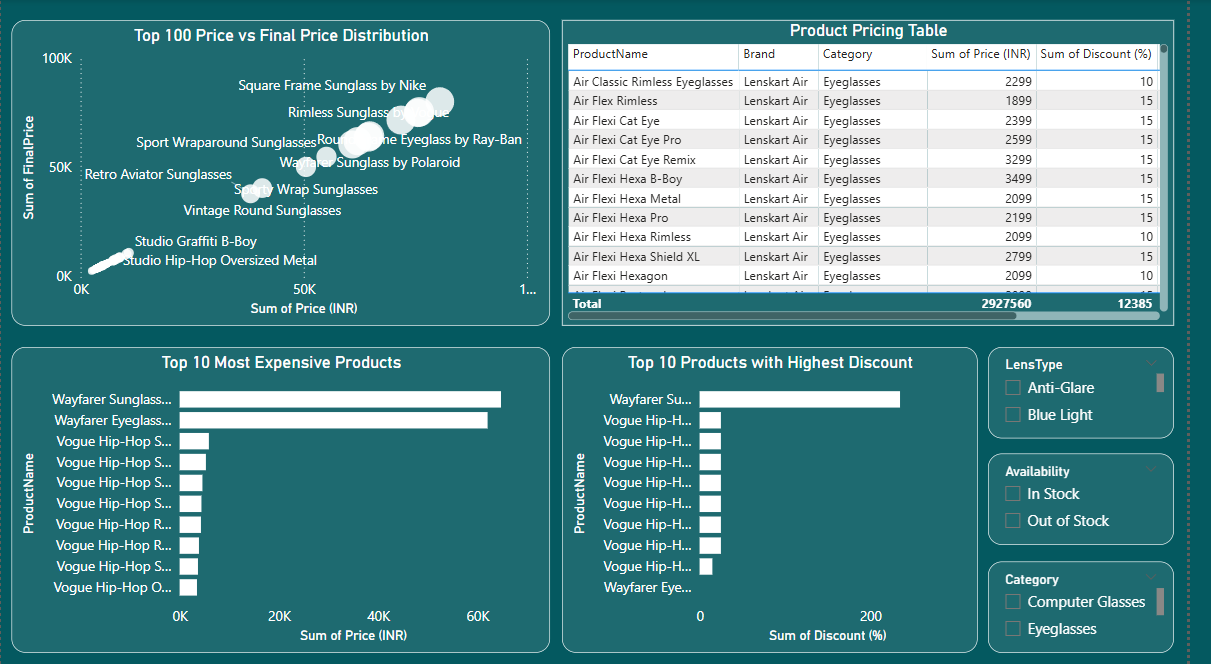

The dashboard page shown, as its layout file describes it:
{"tool":"powerbi","page":{"name":"Price & Discount Analysis","canvas":[1280,720],"ordinal":1},"visuals":[{"type":"scatterChart","title":"Top 100 Price vs Final Price Distribution","fields":{"X":["Sum(Dataset1.Price (INR))"],"Size":["Sum(Dataset1.Rating)"],"Y":["Sum(Dataset1.FinalPrice)"],"Category":["Dataset1.ProductName"]},"box":[11.3,22.7,581.3,330.3],"z":0},{"type":"clusteredBarChart","title":"Top 10 Most Expensive Products","fields":{"Category":["Dataset1.ProductName"],"Y":["Sum(Dataset1.Price (INR))"]},"box":[11.3,375.7,581.3,330.3],"z":1000},{"type":"clusteredBarChart","title":"Top 10 Products with Highest Discount","fields":{"Y":["Sum(Dataset1.Discount (%))"],"Category":["Dataset1.ProductName"]},"box":[605.6,375.7,448.5,330.3],"z":2000},{"type":"tableEx","title":"Product Pricing Table","fields":{"Values":["Dataset1.ProductName","Dataset1.Brand","Dataset1.Category","Sum(Dataset1.Price (INR))","Sum(Dataset1.Discount (%))","Sum(Dataset1.FinalPrice)","Sum(Dataset1.Rating)"]},"box":[605.6,22.7,660.6,330.3],"z":3000},{"type":"slicer","fields":{"Values":["Dataset1.LensType"]},"box":[1065.5,375.7,200.8,98.8],"z":4000},{"type":"slicer","fields":{"Values":["Dataset1.Availability"]},"box":[1065.5,490.6,200.8,98.8],"z":5000},{"type":"slicer","fields":{"Values":["Dataset1.Category"]},"box":[1065.5,607.2,200.8,98.8],"z":6000}]}

Visuals, with their boxes in screenshot pixels (x1, y1, x2, y2), scaled from the page's 1280x720 canvas onto the 1211x664 screenshot:
"Top 100 Price vs Final Price Distribution" scatterChart: 11:21:561:326
"Top 10 Most Expensive Products" clusteredBarChart: 11:346:561:651
"Top 10 Products with Highest Discount" clusteredBarChart: 573:346:997:651
"Product Pricing Table" tableEx: 573:21:1198:326
slicer - Dataset1.LensType: 1008:346:1198:438
slicer - Dataset1.Availability: 1008:452:1198:544
slicer - Dataset1.Category: 1008:560:1198:651
